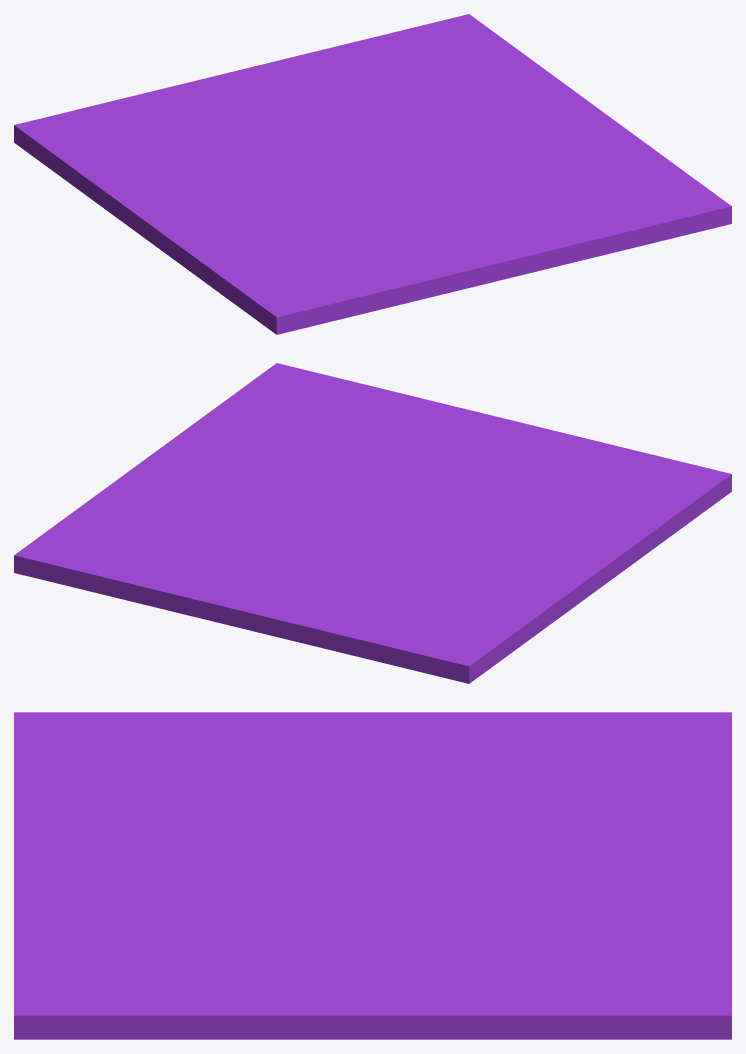
Rendered from Platform_56_chunks.fbx.
3 renders of one model, top to bottom at view 1: azimuth 30°, elevation 25°; view 2: azimuth 150°, elevation 25°; view 3: azimuth 270°, elevation 25°, orthographic. The views are drawn at different scales.
Parts seen in each view (by area): view 1: Platform_56_0, Platform_56_2, Platform_56_1, Platform_56_6, Platform_56_5, Platform_56_16, Platform_56_9, Platform_56_7, Platform_56_4, Platform_56_18, Platform_56_14, Platform_56_3 (+4 smaller); view 2: Platform_56_0, Platform_56_1, Platform_56_6, Platform_56_5, Platform_56_2, Platform_56_16, Platform_56_9, Platform_56_7, Platform_56_4, Platform_56_18, Platform_56_14, Platform_56_17 (+6 smaller); view 3: Platform_56_0, Platform_56_1, Platform_56_6, Platform_56_2, Platform_56_5, Platform_56_9, Platform_56_16, Platform_56_21, Platform_56_7, Platform_56_18, Platform_56_4, Platform_56_14 (+4 smaller).
Part boxes in pixels (x1,y1,x2,y2): Platform_56_0: (365, 152, 731, 274); Platform_56_2: (239, 232, 522, 334); Platform_56_1: (107, 179, 324, 306); Platform_56_6: (257, 29, 408, 173); Platform_56_5: (25, 135, 313, 210); Platform_56_16: (160, 45, 340, 137); Platform_56_9: (391, 14, 510, 111); Platform_56_7: (382, 107, 553, 156); Platform_56_4: (264, 168, 428, 215); Platform_56_18: (457, 45, 549, 119); Platform_56_14: (15, 110, 224, 142); Platform_56_3: (322, 211, 473, 241); Platform_56_0: (203, 363, 502, 515); Platform_56_1: (456, 498, 698, 615); Platform_56_6: (75, 515, 419, 603); Platform_56_5: (374, 532, 566, 673); Platform_56_2: (477, 418, 731, 518); Platform_56_16: (142, 571, 388, 636); Platform_56_9: (14, 513, 252, 591); Platform_56_7: (211, 454, 349, 534); Platform_56_4: (383, 471, 499, 547); Platform_56_18: (57, 481, 222, 524); Platform_56_14: (366, 583, 483, 675); Platform_56_17: (305, 620, 470, 676); Platform_56_0: (14, 858, 390, 1039); Platform_56_1: (105, 712, 464, 805); Platform_56_6: (370, 825, 731, 975); Platform_56_2: (14, 712, 221, 864); Platform_56_5: (390, 712, 691, 828); Platform_56_9: (480, 910, 731, 1039); Platform_56_16: (531, 795, 731, 929); Platform_56_21: (225, 982, 510, 1039); Platform_56_7: (282, 874, 510, 962); Platform_56_18: (408, 946, 616, 1039); Platform_56_4: (209, 799, 407, 860); Platform_56_14: (553, 712, 728, 809).
Bounding box in the file's own units: 810 × 29.87 × 810.
